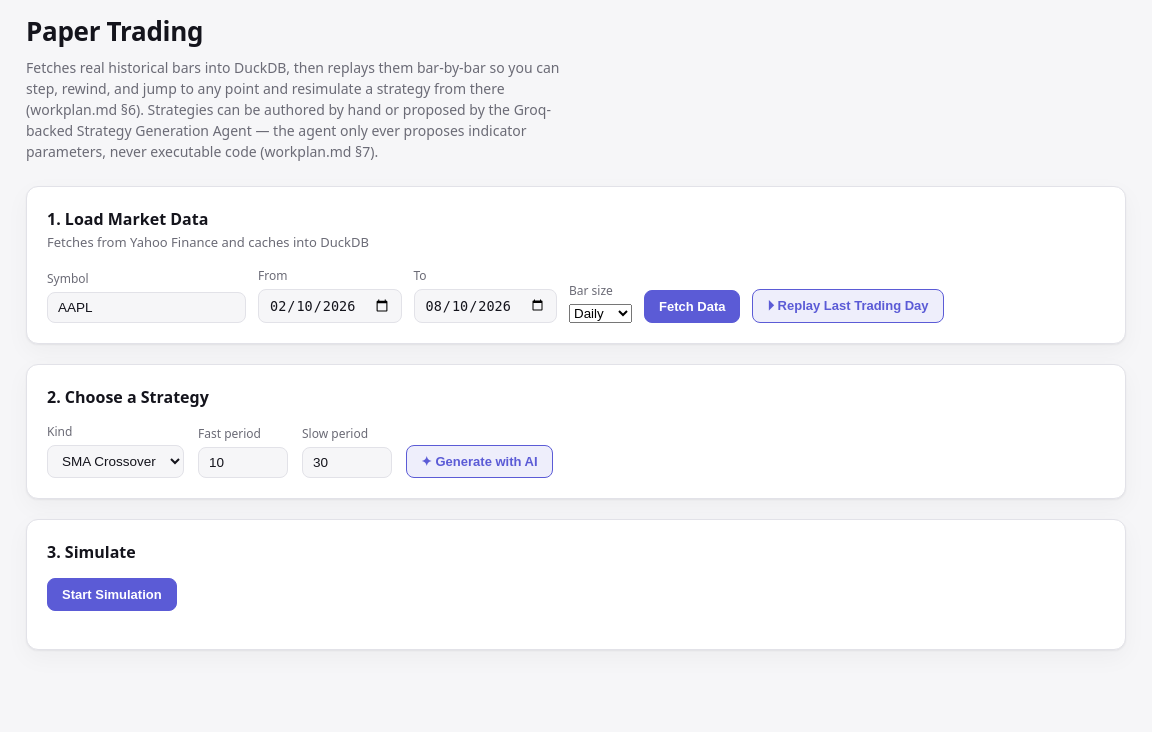
Test: PaperTrading page › shows an error banner instead of crashing when fetching data fails
Click the button "Fetch Data" at point(692, 306), box [644,290,740,322]
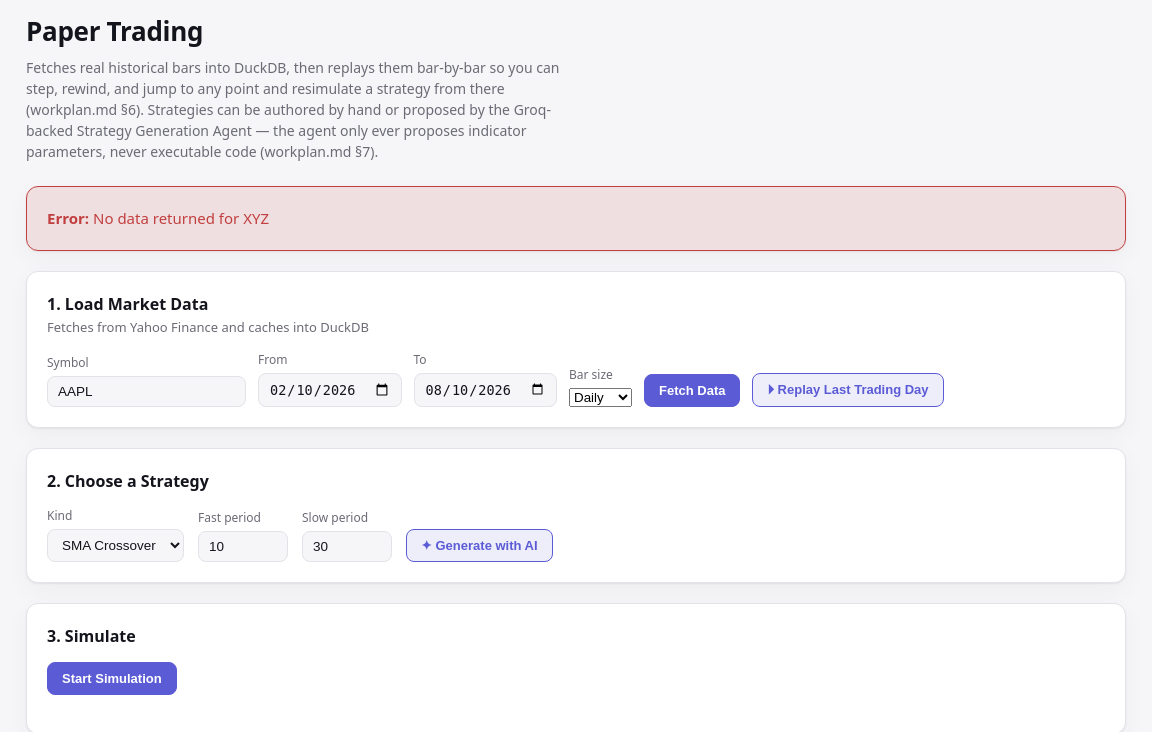
Expected: the text "Error: No data returned for XYZ" is shown, [26,186,1126,250]
